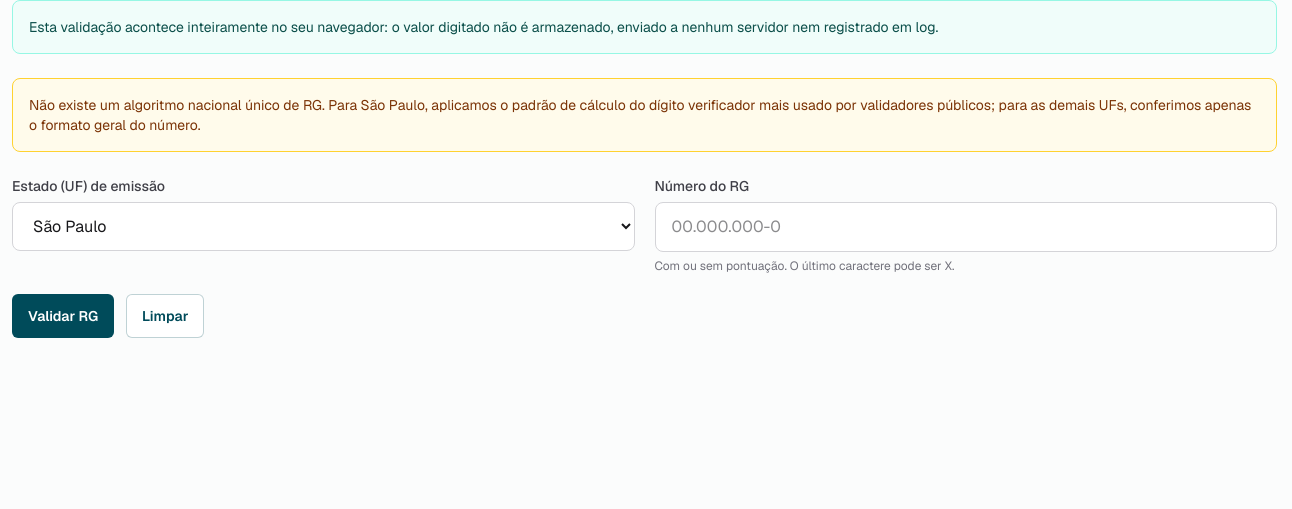
Test case: ValidadorRgTool › para outra UF, valida apenas o formato geral
Select "Rio de Janeiro" in the dropdown labelled "Estado (UF) de emissão" at (323, 226), box [12, 202, 634, 251]
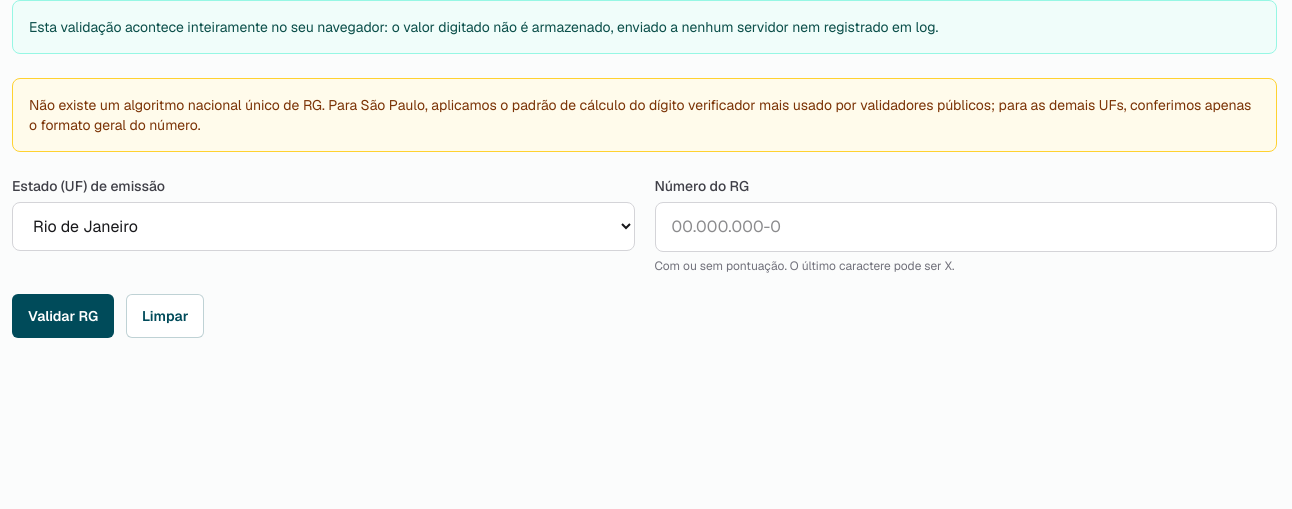
Type "12.345.678-9" into the field labelled "Número do RG" at (966, 227), box [654, 202, 1277, 252]
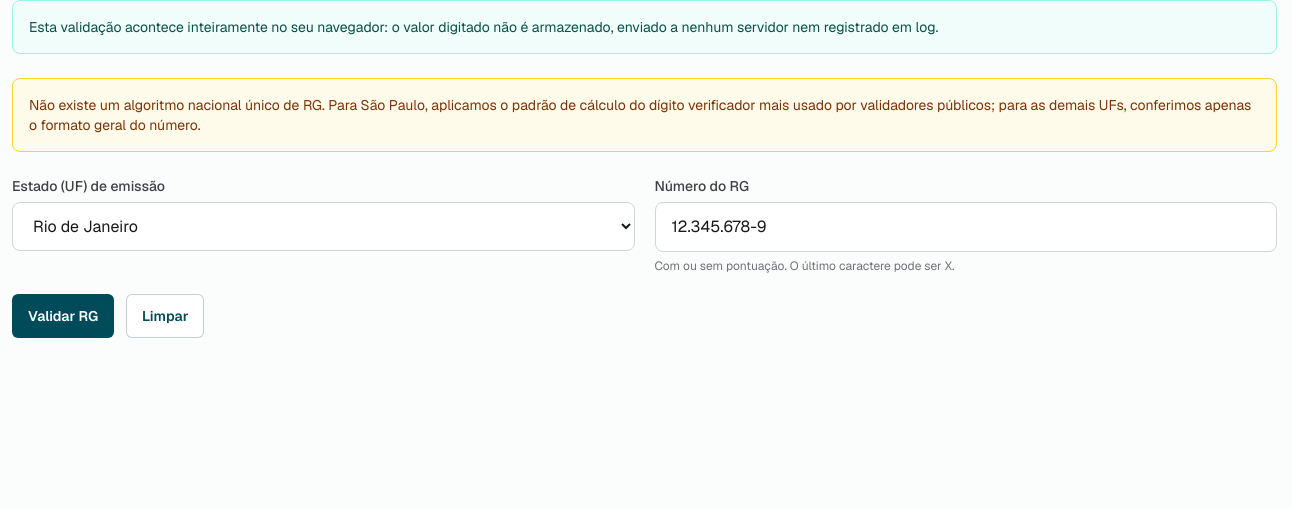
Click the button "Validar RG" at (63, 316), box [12, 294, 114, 338]
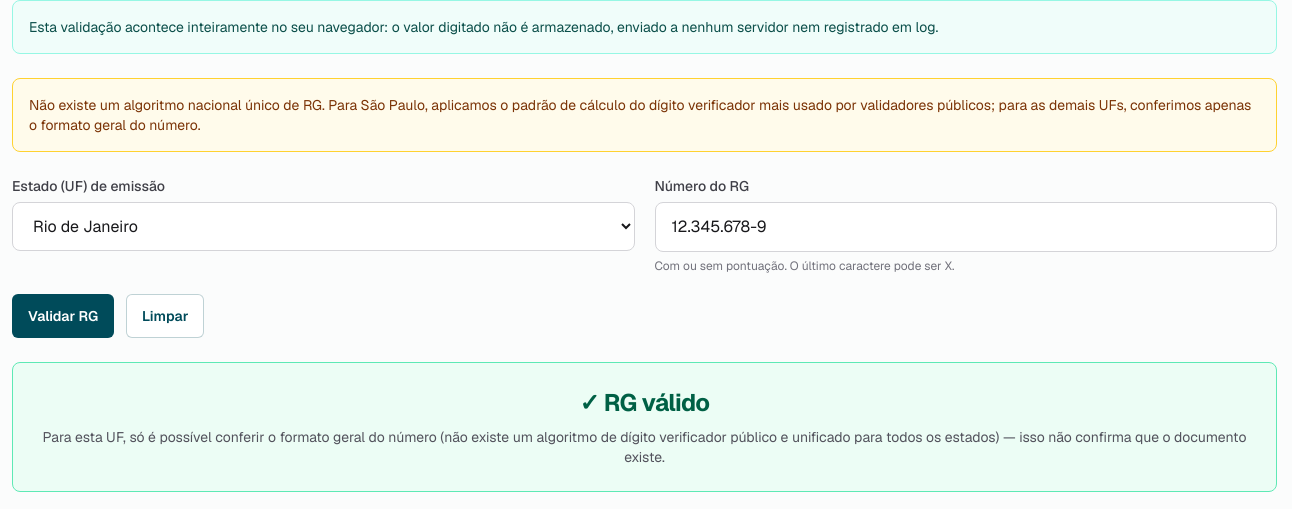
Check: the text "✓ RG válido" is shown, box [579, 387, 710, 418]
Check: the text "só é possível conferir o formato geral" is shown, box [43, 428, 1246, 466]
